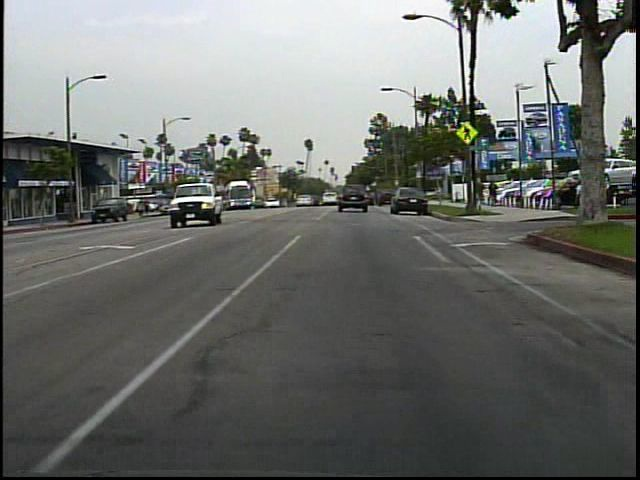person: (571, 173, 596, 227)
